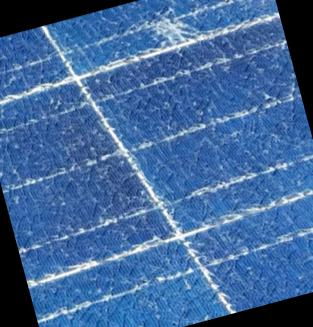Crack: (114, 0, 219, 75)
